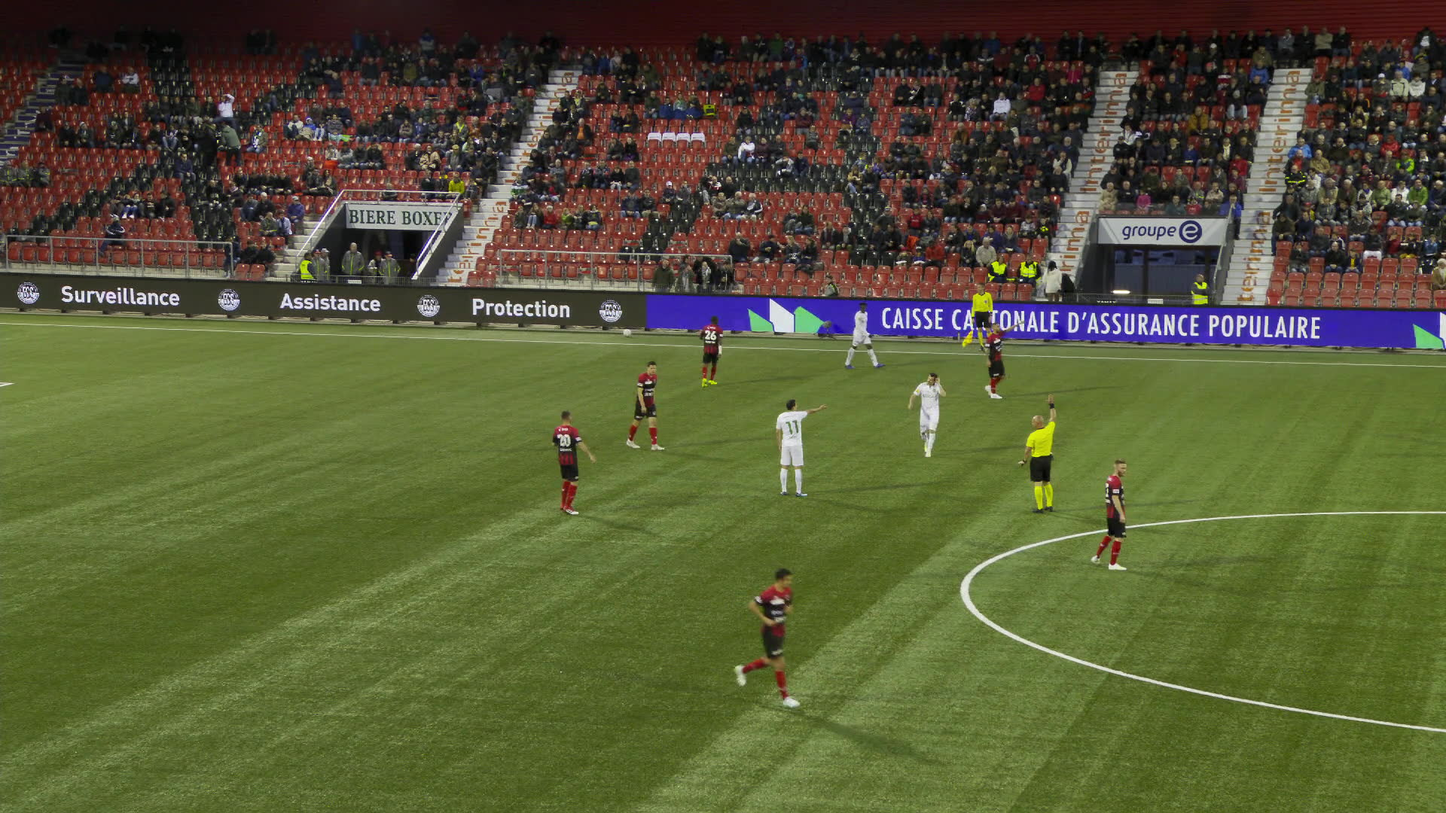ball: (623, 328, 630, 336)
player: (739, 568, 789, 705), (775, 400, 826, 496), (553, 411, 593, 514), (1093, 458, 1128, 570), (627, 360, 667, 448), (978, 321, 1023, 398), (908, 370, 944, 455), (846, 301, 875, 369), (698, 315, 722, 386)
referee: (1017, 394, 1055, 512), (972, 283, 993, 346)
